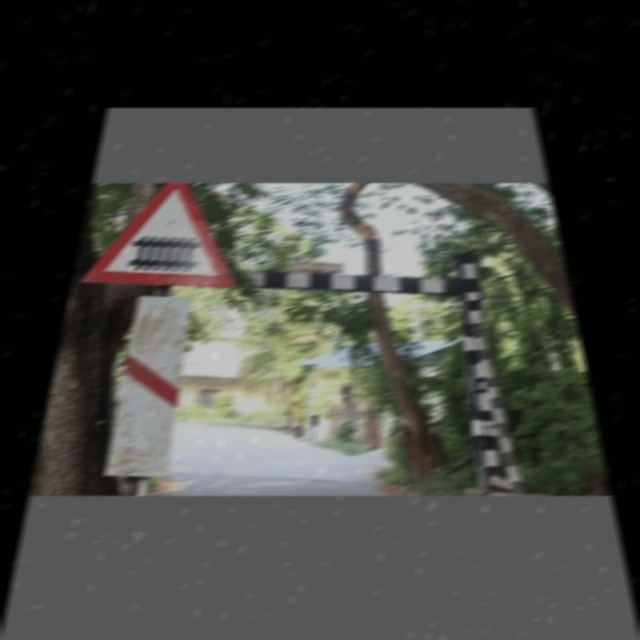Guarded_Level_Crossing: (90, 187, 239, 289)
